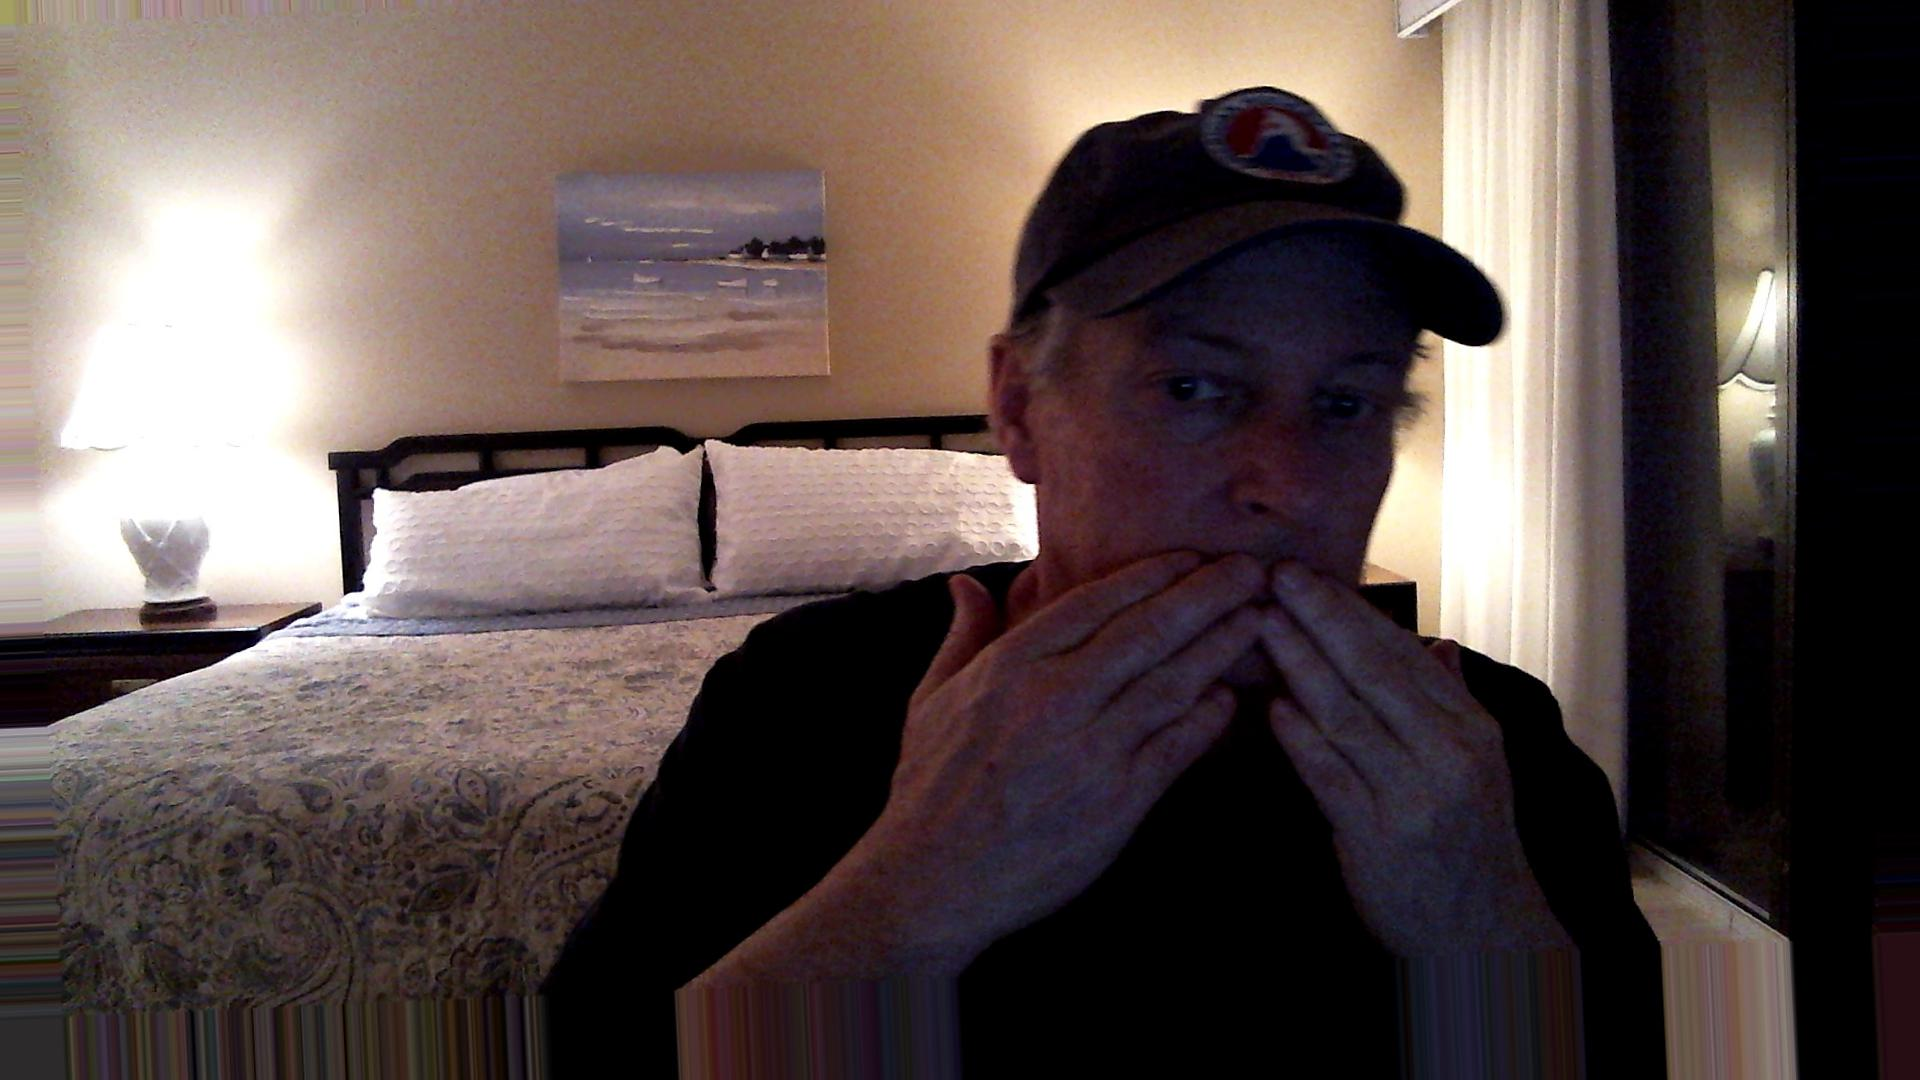Thank You: (880, 533, 1567, 913)
